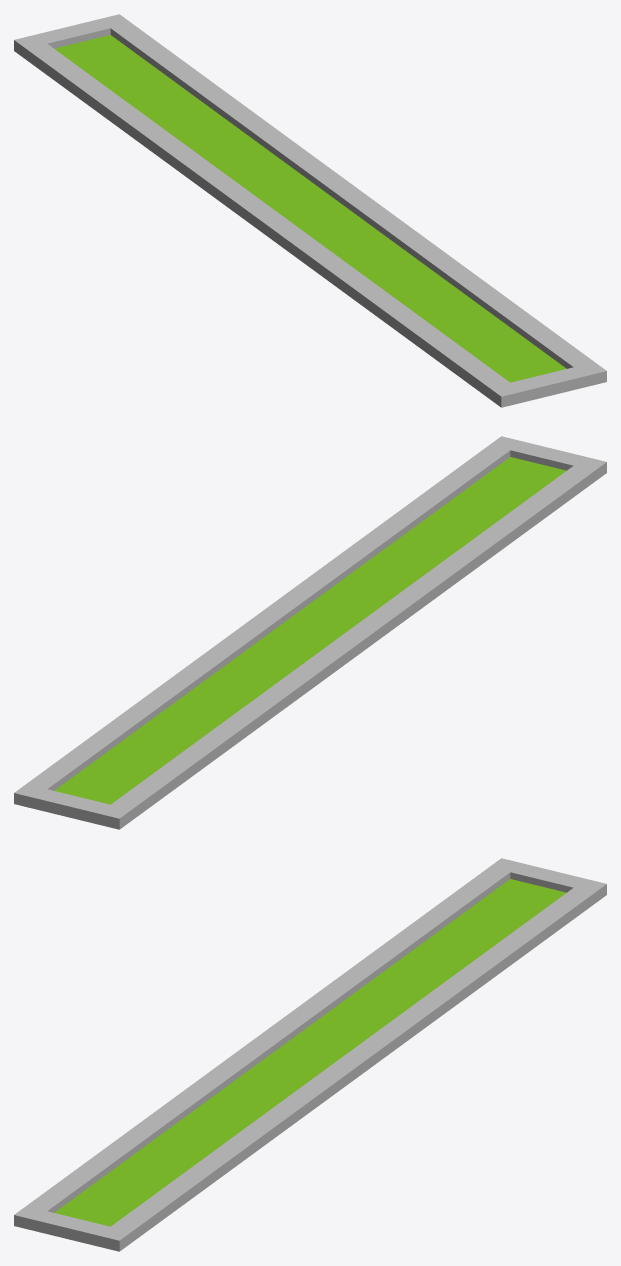
File: grass_04.fbx
3 renders of one model, top to bottom at view 1: azimuth 30°, elevation 25°; view 2: azimuth 150°, elevation 25°; view 3: azimuth 330°, elevation 25°, orthographic.
Parts seen in each view (by area): view 1: grass_04; view 2: grass_04; view 3: grass_04.
Part boxes in pixels (x1=…): grass_04: x1=14, y1=14, x2=606, y2=407; grass_04: x1=14, y1=436, x2=606, y2=829; grass_04: x1=14, y1=858, x2=606, y2=1251.
Bounding box in the file's own units: 1 × 0.1 × 8.
